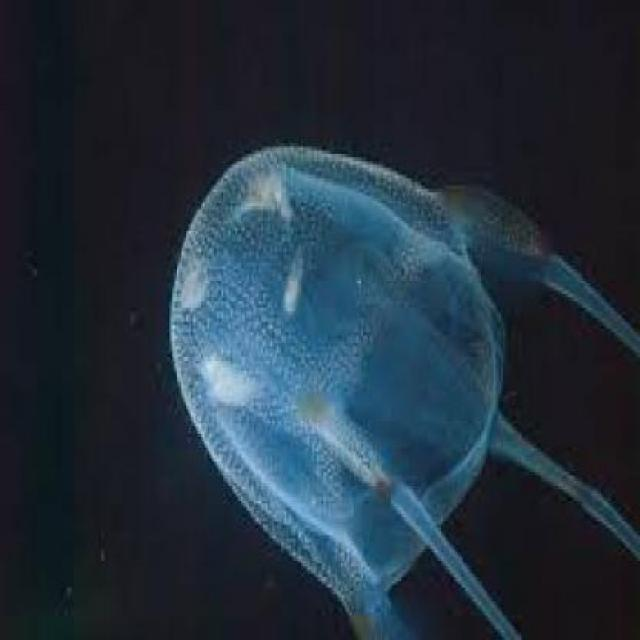Jellyfish: (164, 140, 636, 637)
